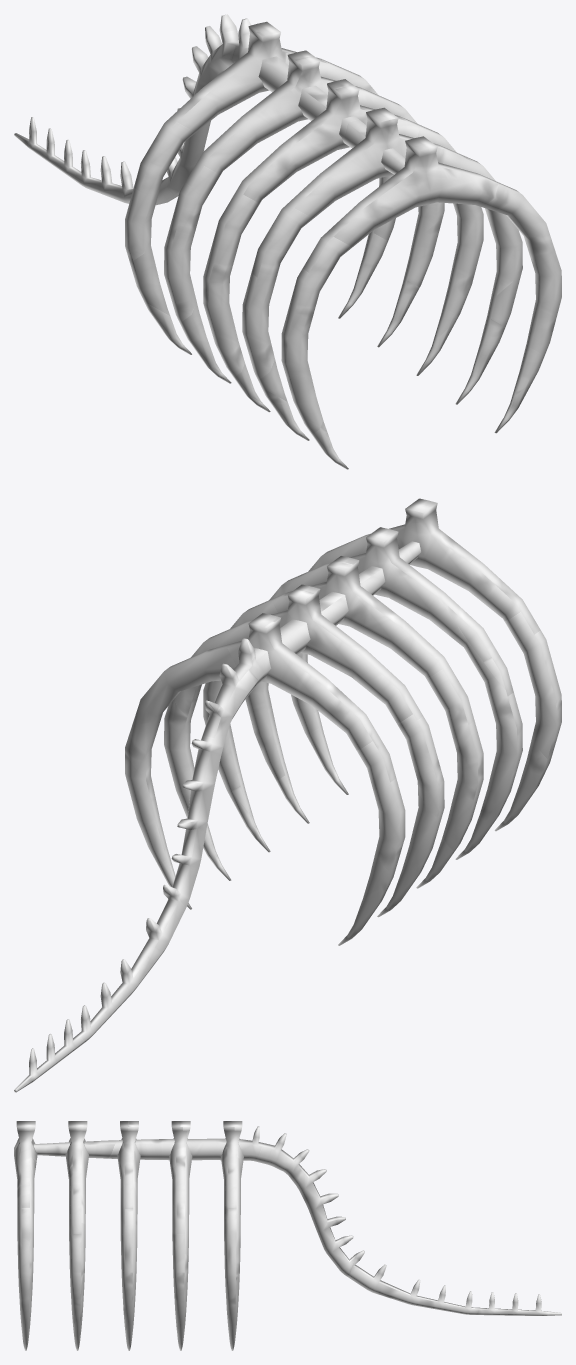
File: osso costela com cauda.fbx
3 views of the same model, one above another, from view 1: azimuth 30°, elevation 25°; view 2: azimuth 150°, elevation 25°; view 3: azimuth 270°, elevation 25° (orthographic). The views are drawn at different scales.
Parts seen in each view (by area): view 1: ossos_cauda; view 2: ossos_cauda; view 3: ossos_cauda.
Part boxes in pixels (x1,y1,x2,y2): ossos_cauda: (14,14,561,469); ossos_cauda: (14,498,561,1092); ossos_cauda: (14,1121,561,1350).
Bounding box in the file's own units: 448 × 478 × 1170.
Materials: 1 (1 with a texture image).
